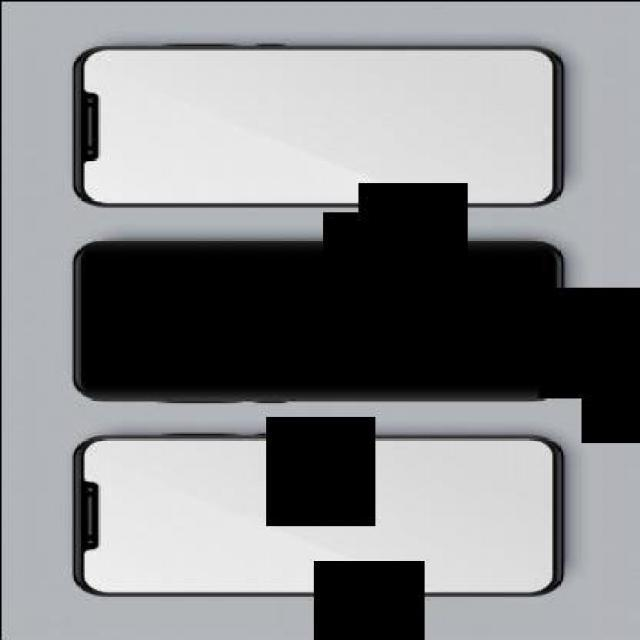phone: (68, 239, 566, 403), (68, 435, 566, 598), (68, 46, 565, 209)
